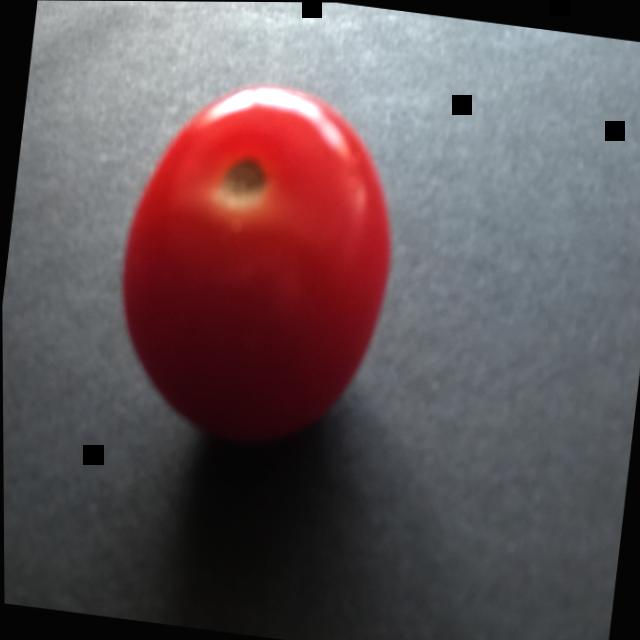Tomato: (56, 38, 443, 510)
